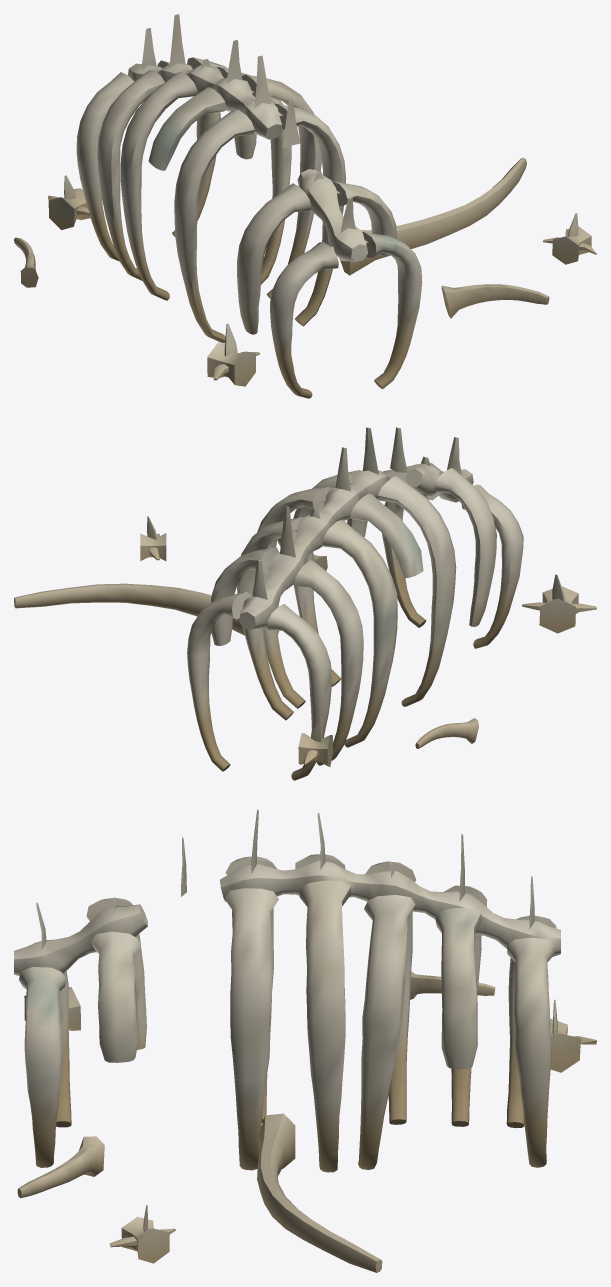
Rendered from giant_ribs_lod1.glb.
3 views of the same model, one above another, from view 1: azimuth 30°, elevation 25°; view 2: azimuth 150°, elevation 25°; view 3: azimuth 270°, elevation 25° (orthographic). The views are drawn at different scales.
Visible parts, largest first — view 1: GiantRibs; view 2: GiantRibs; view 3: GiantRibs.
Boxes of the visible parts, x1=… form: GiantRibs: x1=14, y1=14, x2=596, y2=398; GiantRibs: x1=14, y1=427, x2=596, y2=780; GiantRibs: x1=14, y1=809, x2=596, y2=1272.
Size of the model in its own units: 25.47 by 13.66 by 21.37.
